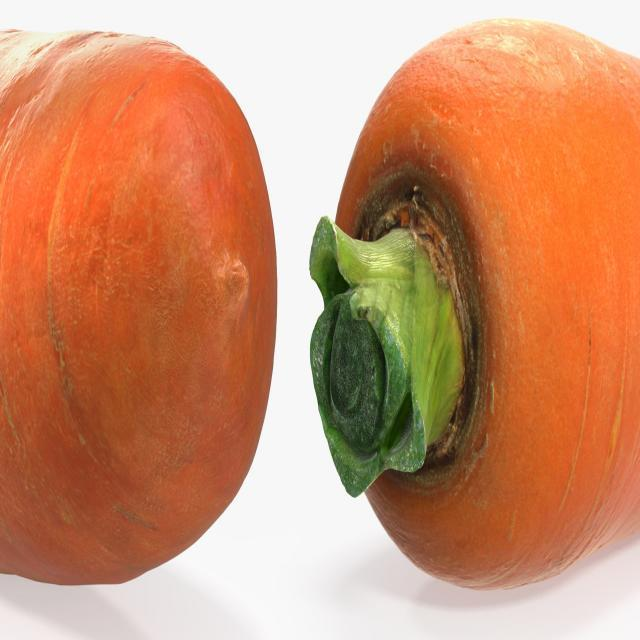carrot: (307, 18, 640, 585)
